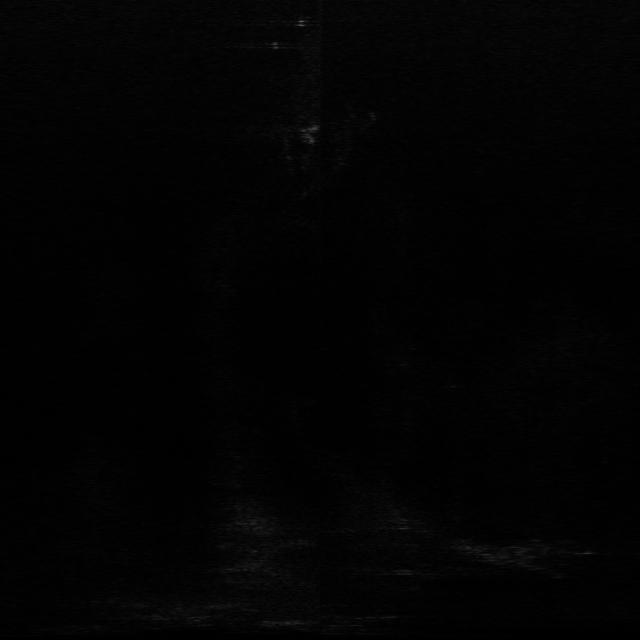rov: (296, 124, 326, 148)
